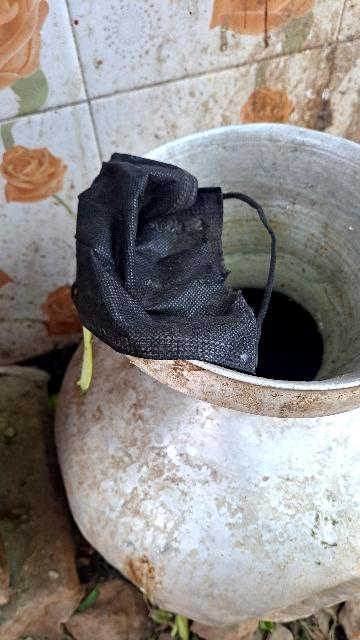mask: (58, 155, 302, 370)
